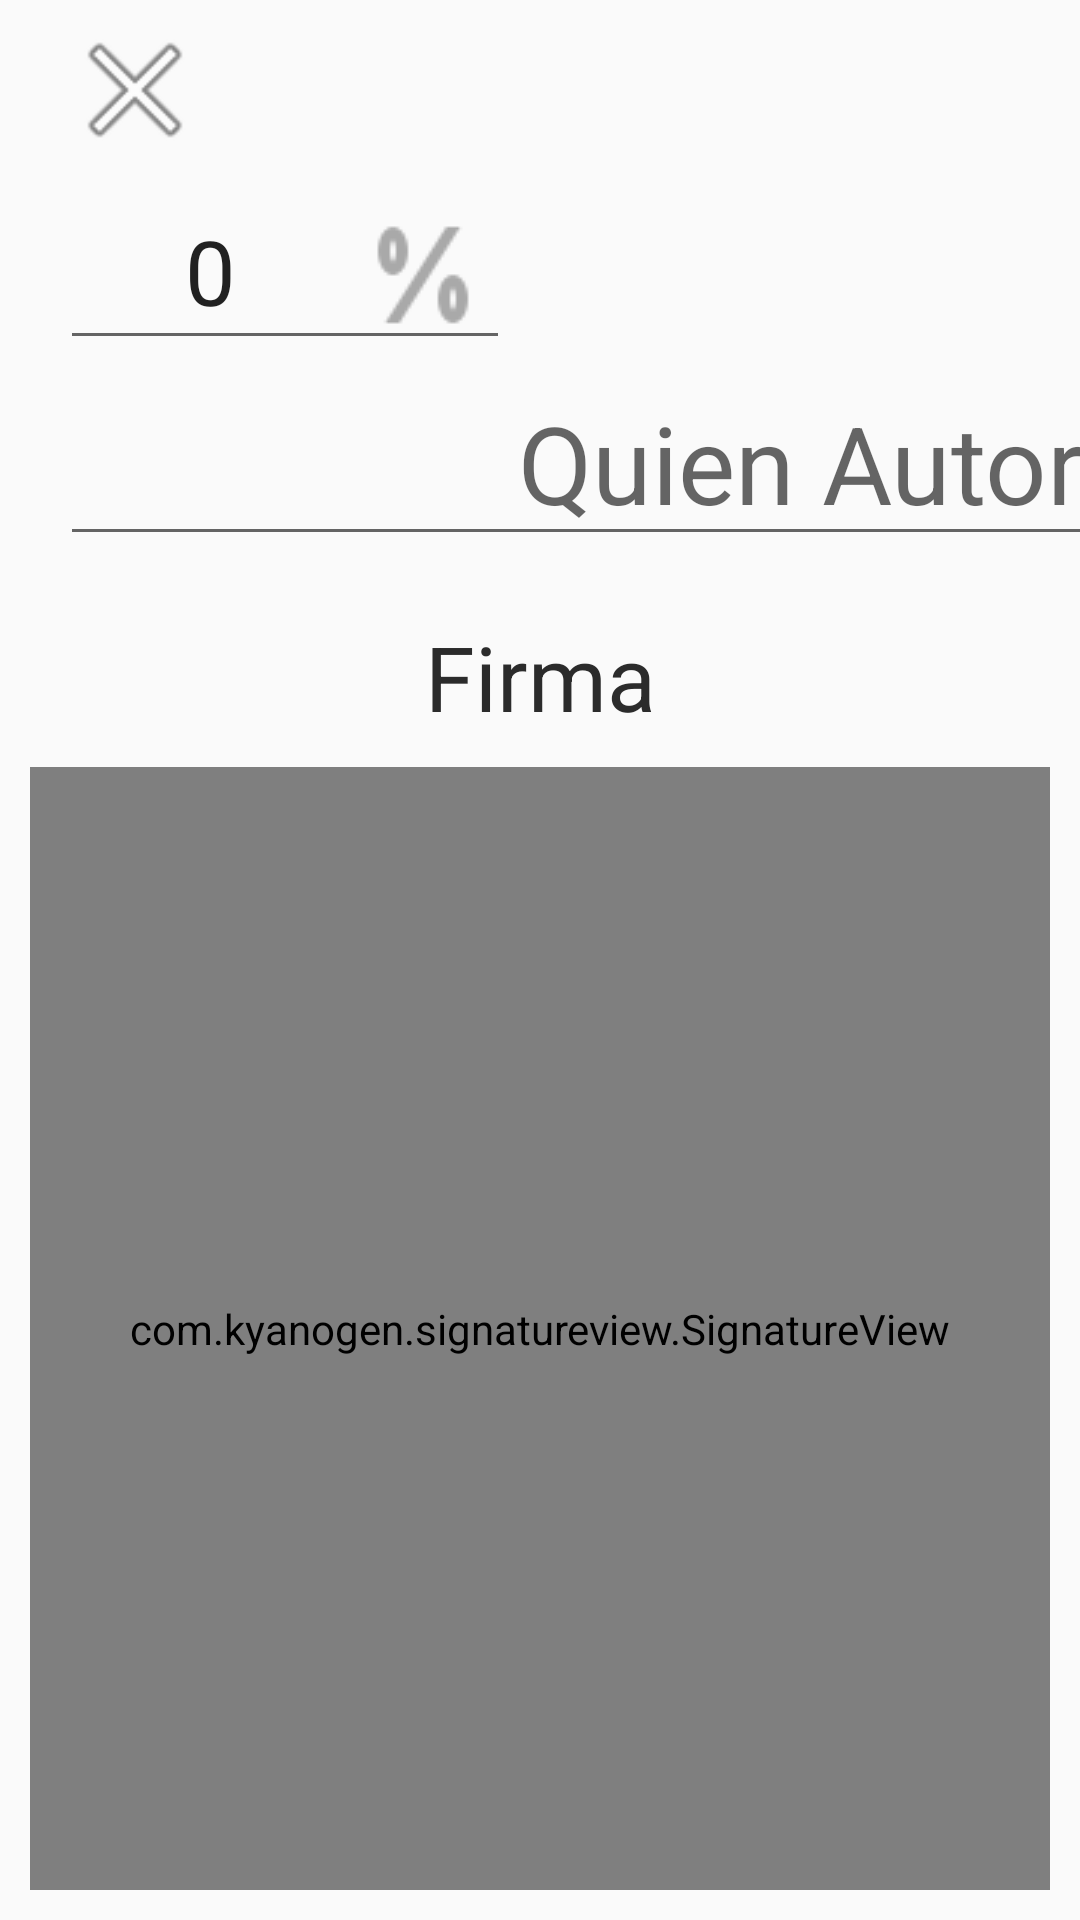

Locate icon controls on the screen. Image size 1080px x 1920px, boxes as (x1, y1, x2, y2).
close clear cancel: (88, 43, 182, 137)
